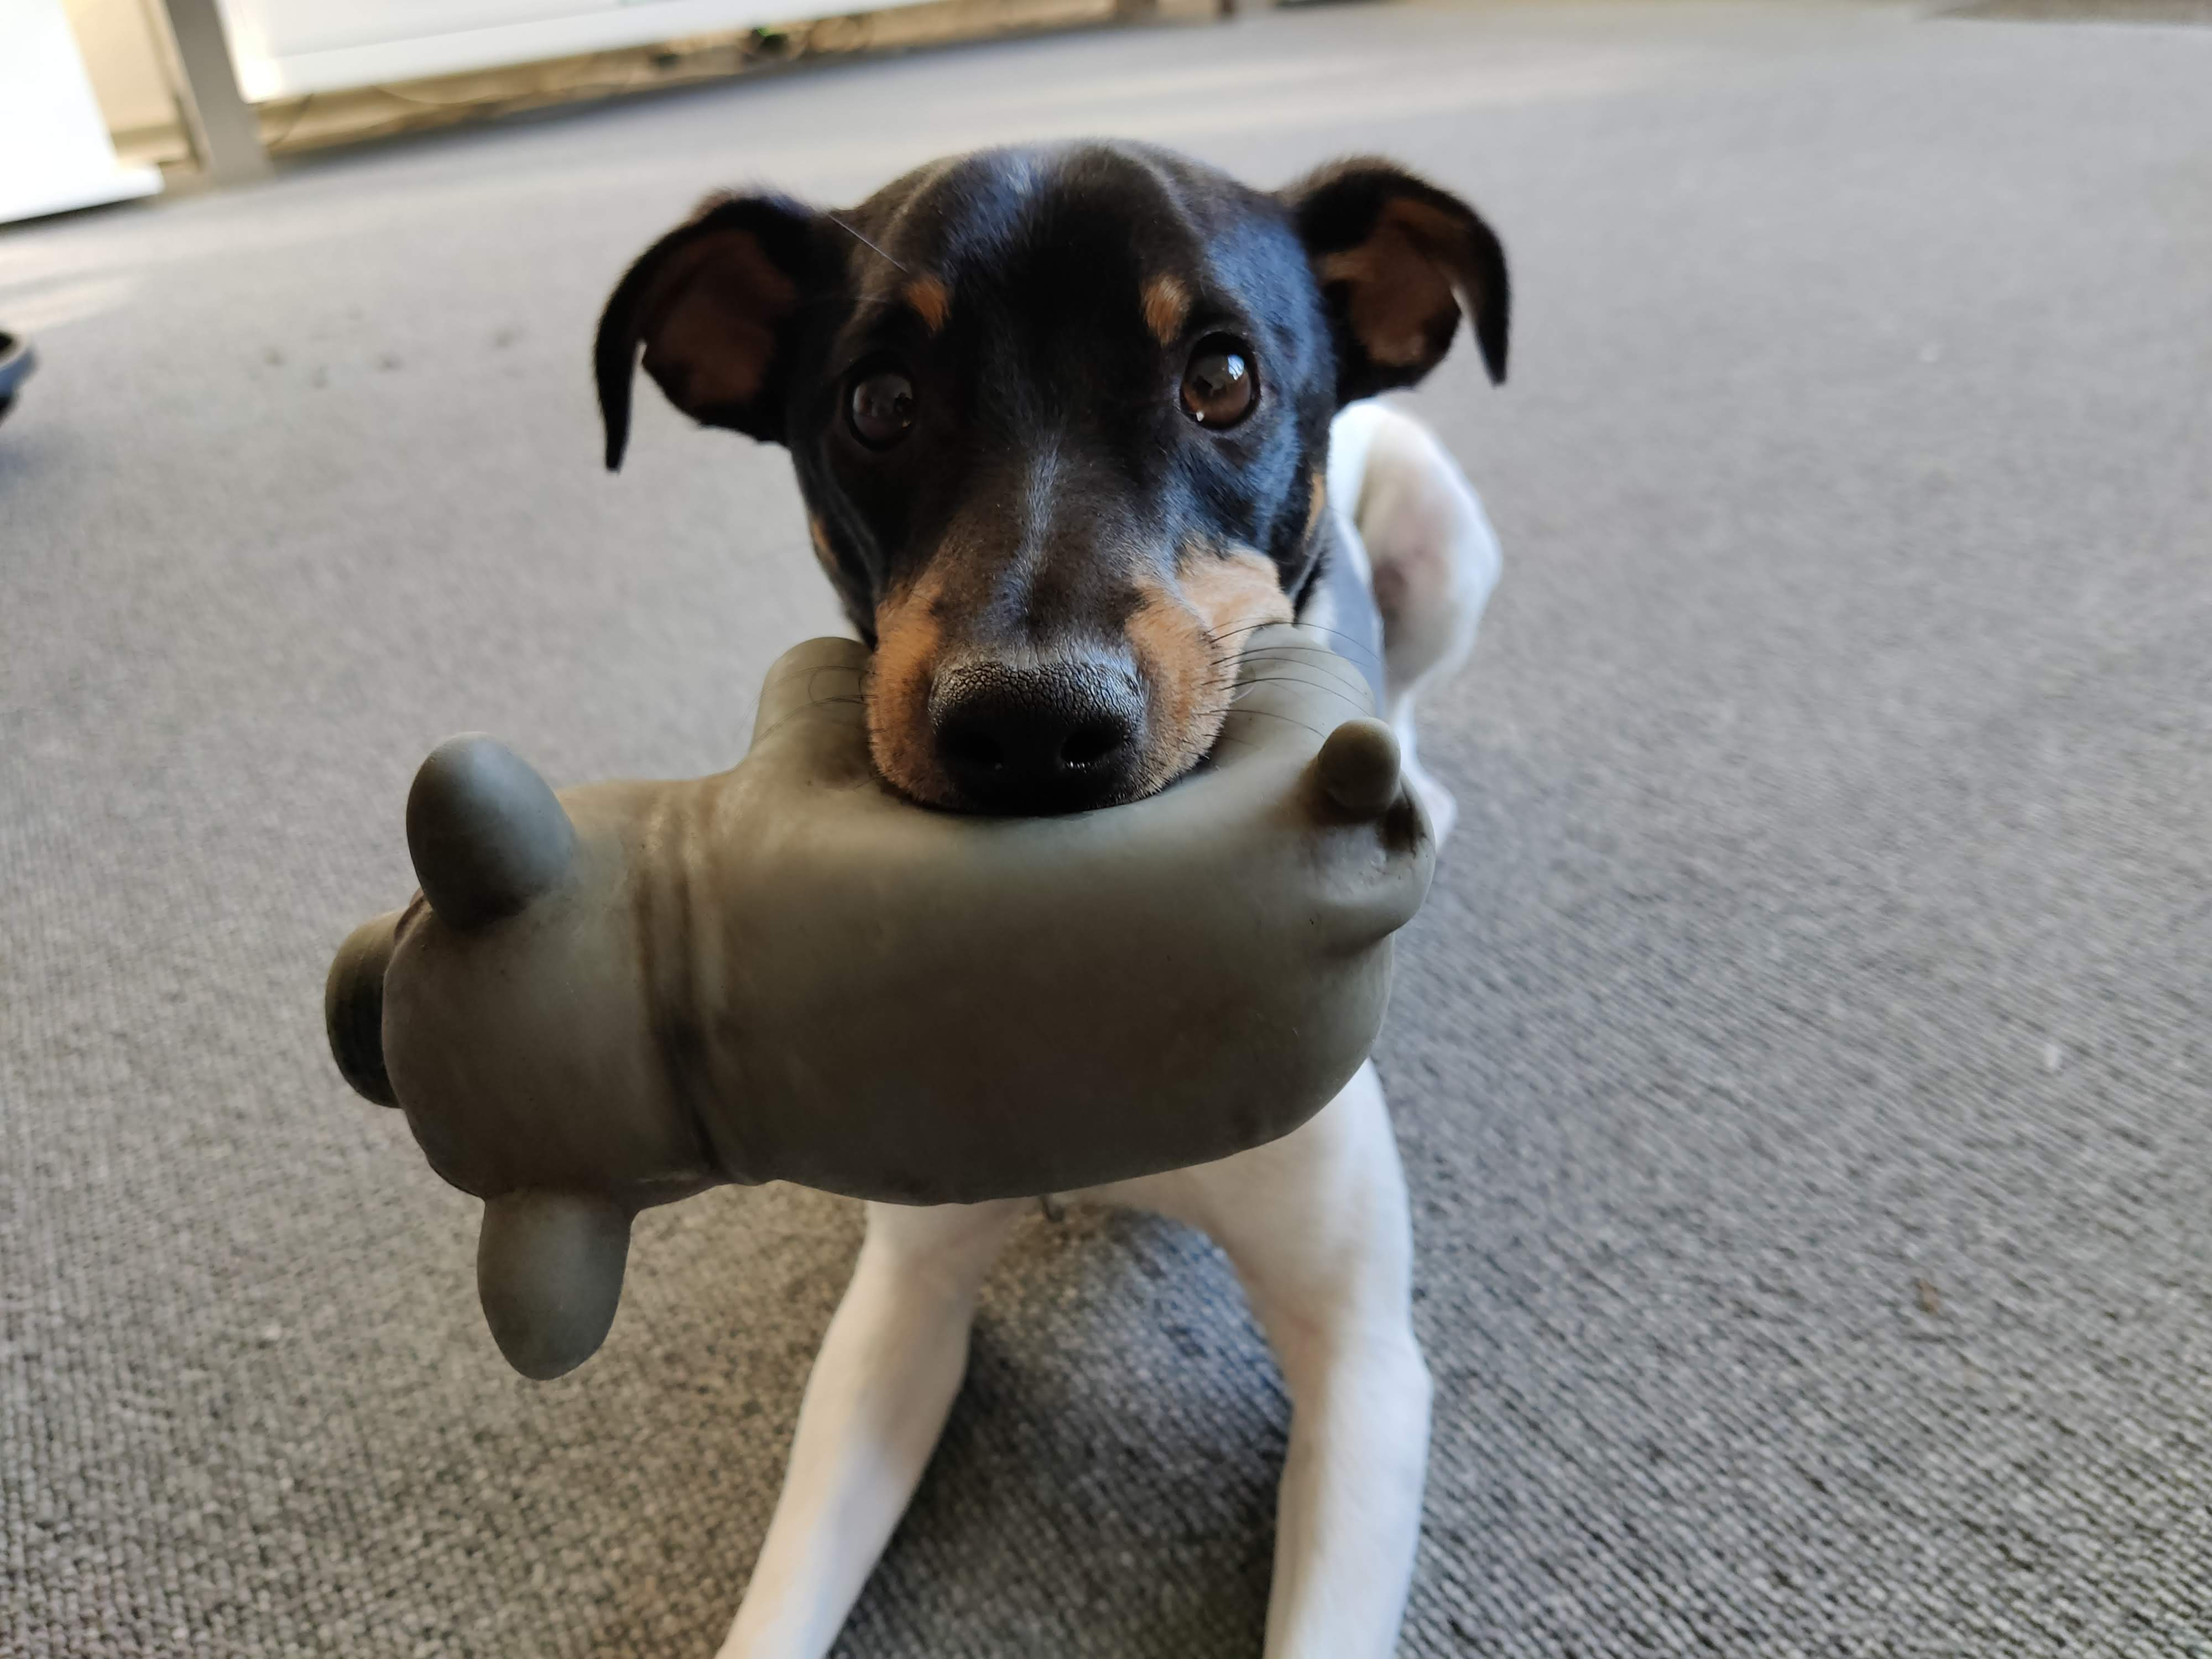Dog: (587, 117, 1533, 1659)
